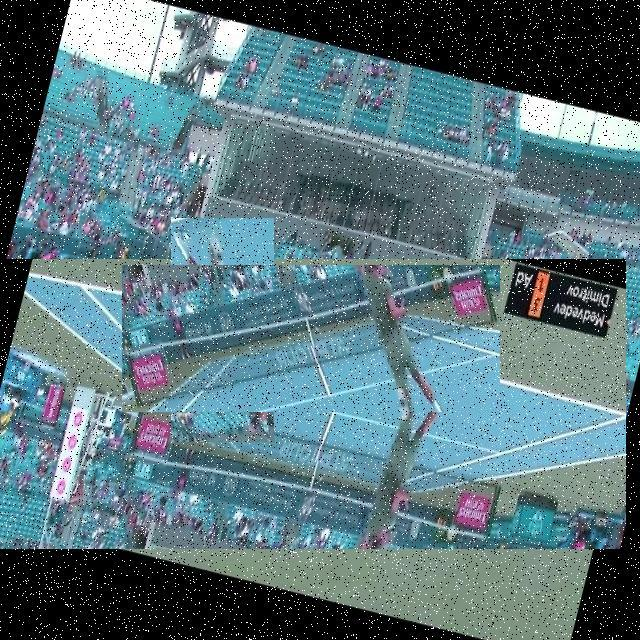court: (0, 259, 626, 549)
net: (122, 265, 500, 412)
player: (171, 218, 274, 442)
